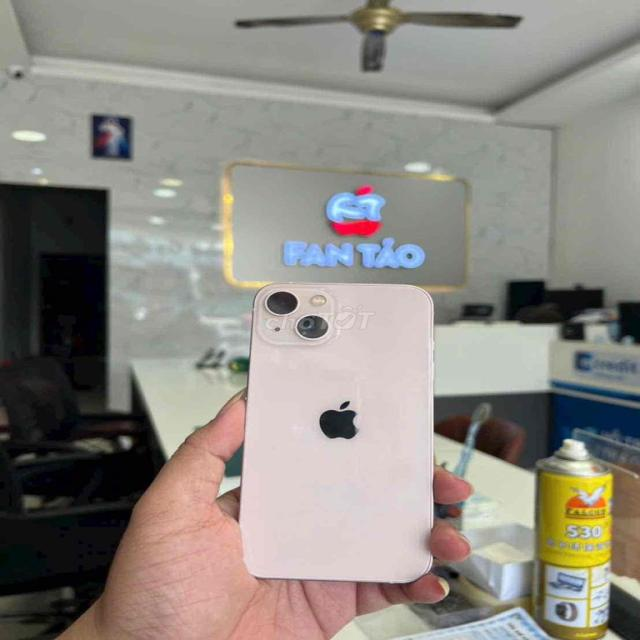gen_12_13: (245, 281, 440, 584)
